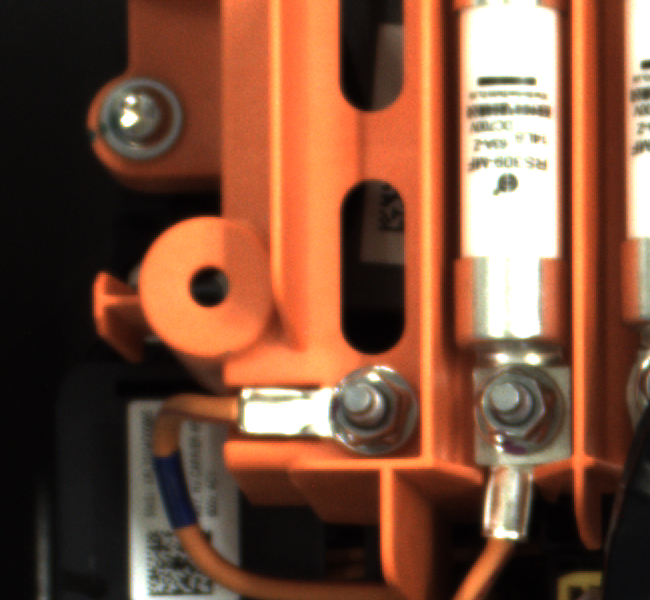screw_m: (84, 70, 195, 175)
screw_s: (469, 357, 565, 457), (313, 354, 411, 449)
